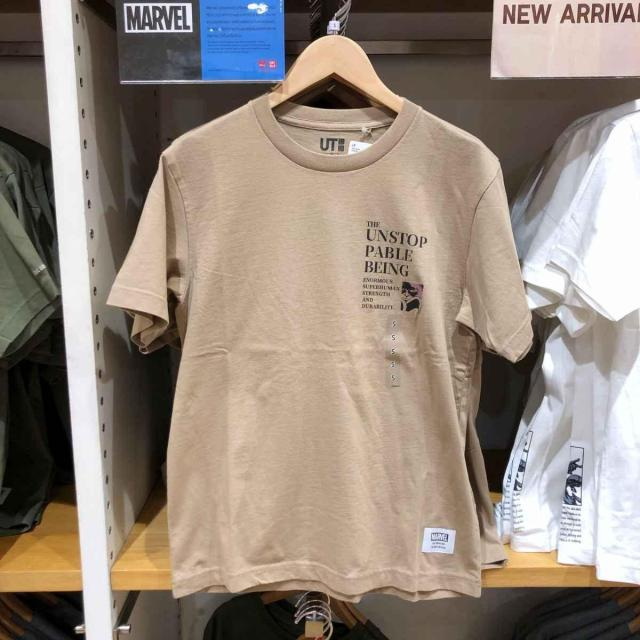Tshirt: (116, 92, 539, 612)
